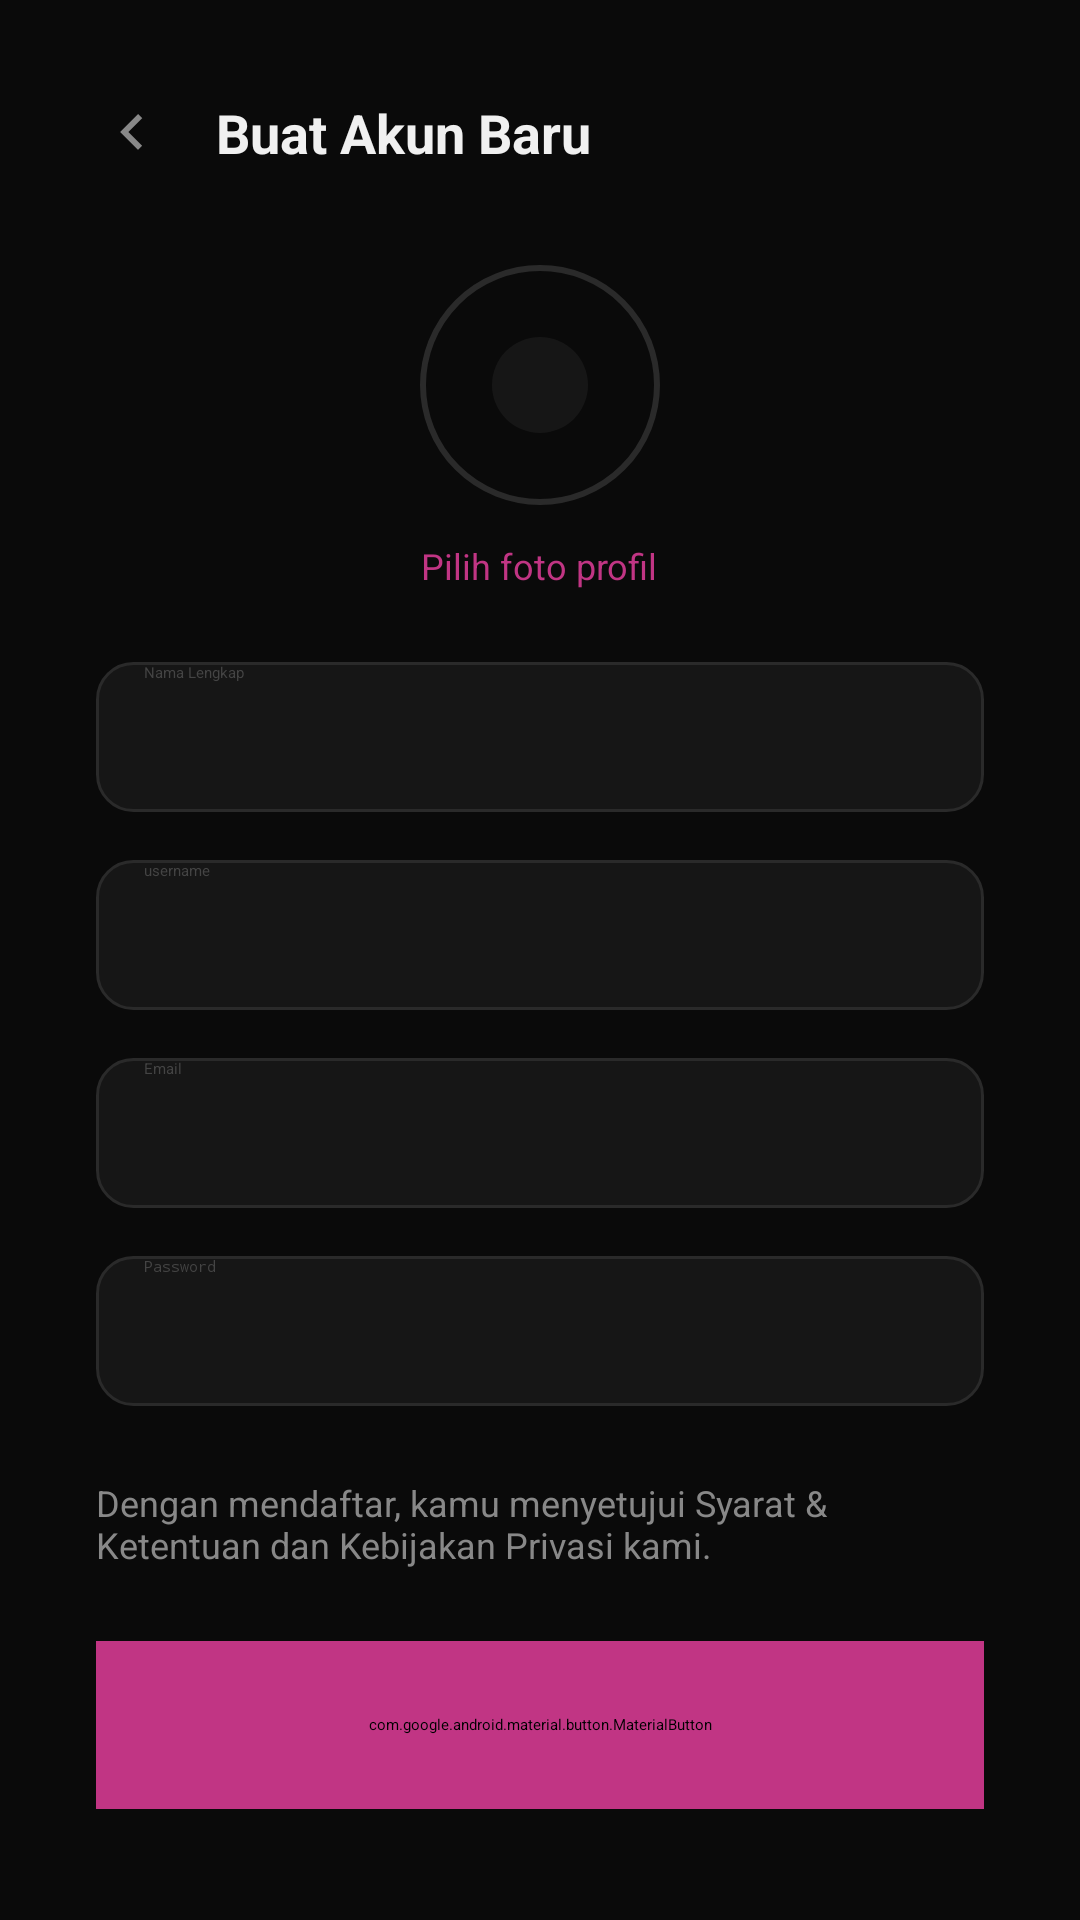

Point at icon controls on the screen. Image size 1080*1920, points as point (x, y).
back: point (131, 132)
